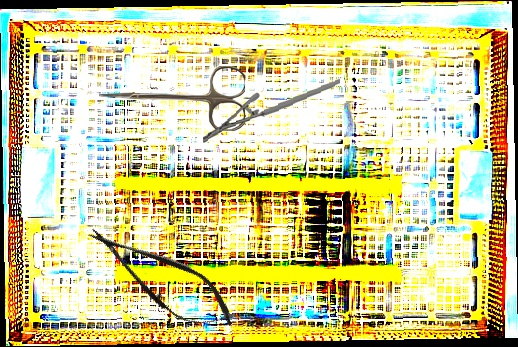Iris Scissors: (99, 66, 245, 131)
Micro Scissor: (76, 210, 246, 346)
Needle Holder: (199, 78, 344, 144)
